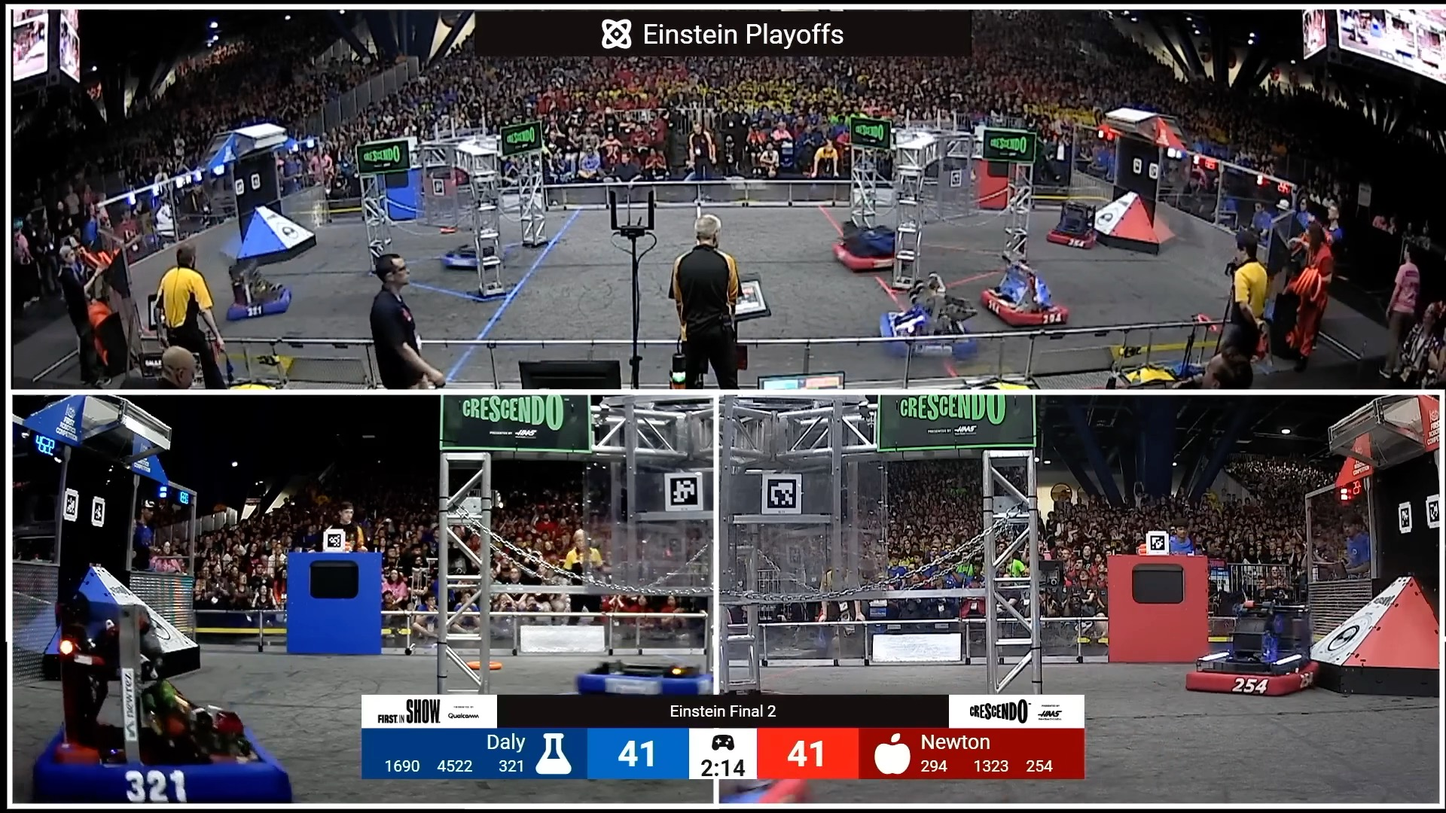bumpers: (34, 717, 296, 804), (1187, 657, 1331, 708), (571, 665, 715, 708), (874, 309, 982, 362), (980, 282, 1077, 334), (830, 235, 925, 276), (214, 283, 297, 324), (439, 241, 515, 272), (1048, 225, 1104, 251)
